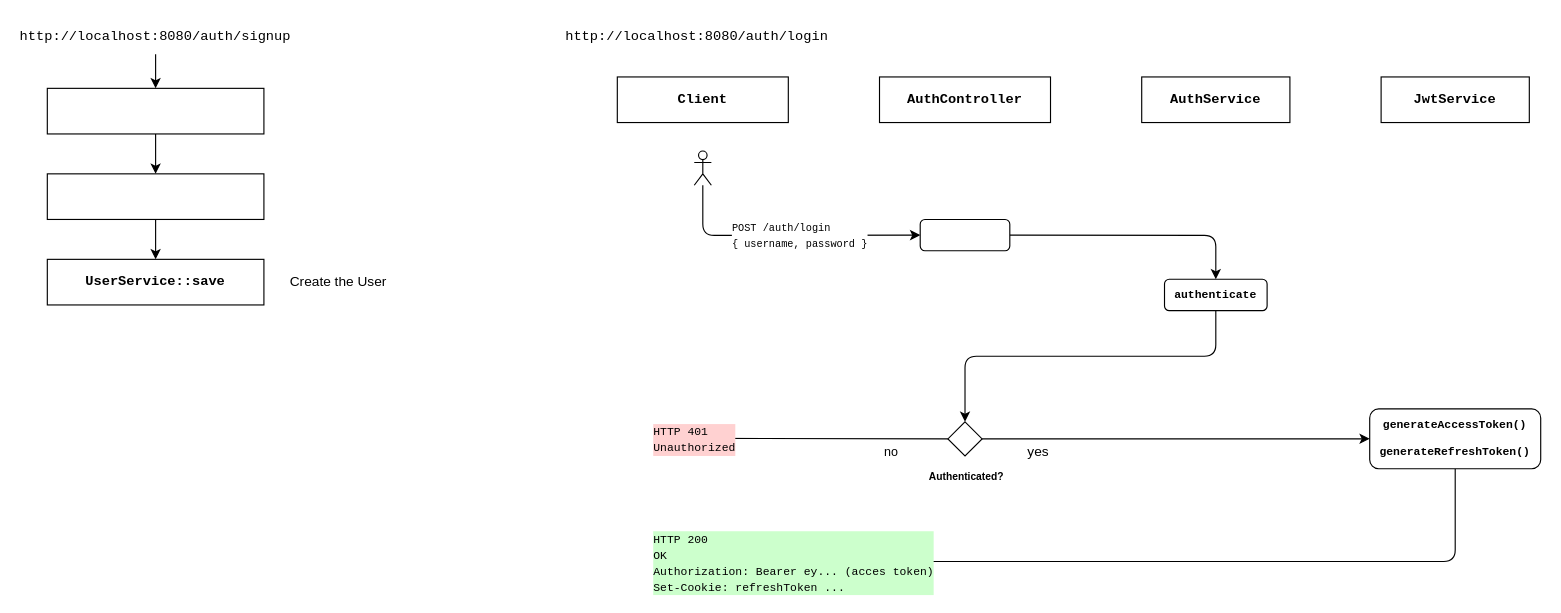
The diagram is 1561 pixels wide and 613 high, and some of its shapes have lost their labels. Here are the shapes that lost their labels. From the top down, the centre of each, then its label:
At [155,110]: "AuthController::signup".
At [155,196]: "AuthService::signup".
At [964,234]: "login".
